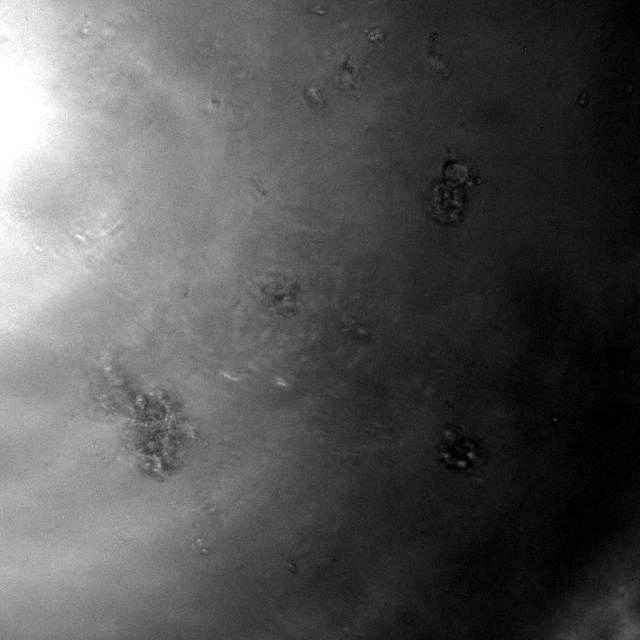organoid: (96, 364, 193, 480), (425, 160, 477, 226), (258, 273, 299, 317), (439, 430, 481, 472)
